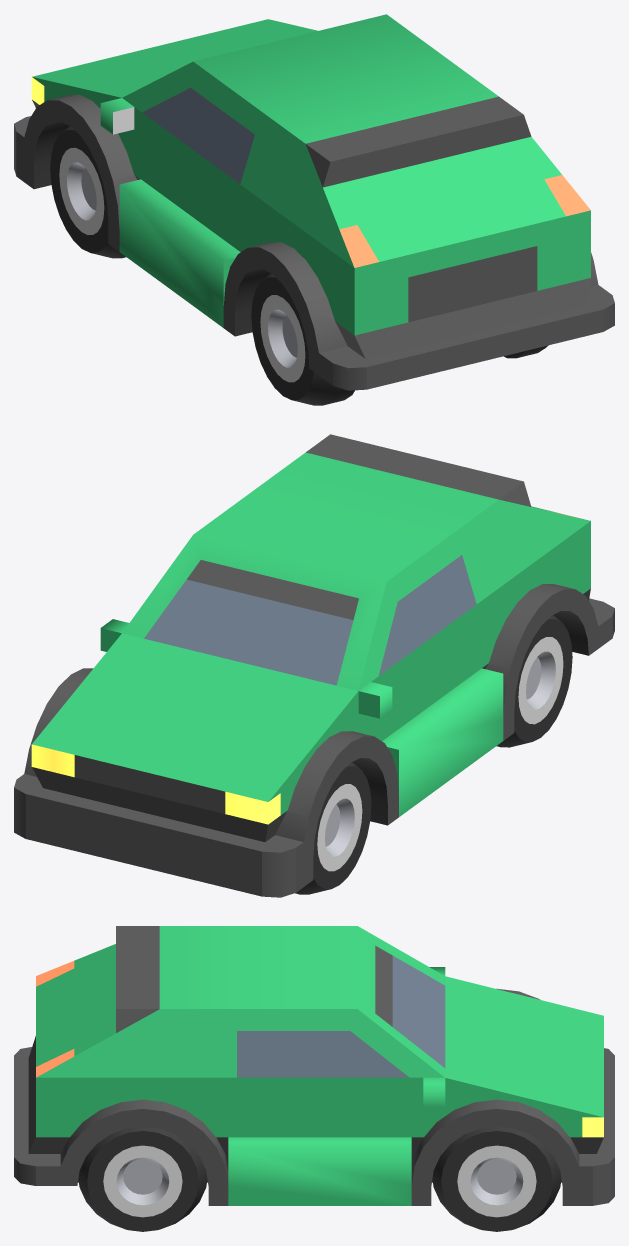
Rendered from hatchbackSports.glb.
3 renders of one model, top to bottom at view 1: azimuth 30°, elevation 25°; view 2: azimuth 150°, elevation 25°; view 3: azimuth 270°, elevation 25°, orthographic. The views are drawn at different scales.
Parts seen in each view (by area): view 1: body, wheel_backLeft, wheel_frontLeft; view 2: body, wheel_backLeft, wheel_frontLeft; view 3: body, wheel_frontRight, wheel_backRight.
Boxes of the visible parts, x1,y1,x2,y2 form: body: (14, 14, 614, 390); wheel_backLeft: (251, 273, 354, 405); wheel_frontLeft: (50, 126, 125, 258); body: (14, 434, 614, 897); wheel_backLeft: (496, 615, 572, 747); wheel_frontLeft: (295, 762, 371, 894); body: (14, 926, 614, 1205); wheel_frontRight: (432, 1126, 561, 1231); wheel_backRight: (78, 1126, 207, 1231).
Size of the model in its own units: 1.3 by 1.1 by 2.75.
